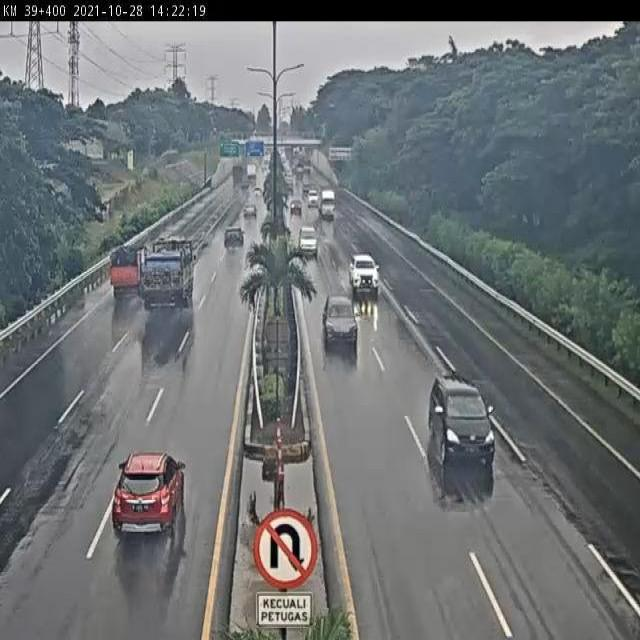car: (426, 373, 496, 467), (111, 450, 185, 534), (322, 293, 356, 343), (349, 255, 380, 292), (299, 225, 318, 256), (222, 227, 245, 252)
truck-l-: (137, 238, 195, 306)
truck-s-: (109, 244, 147, 289)
